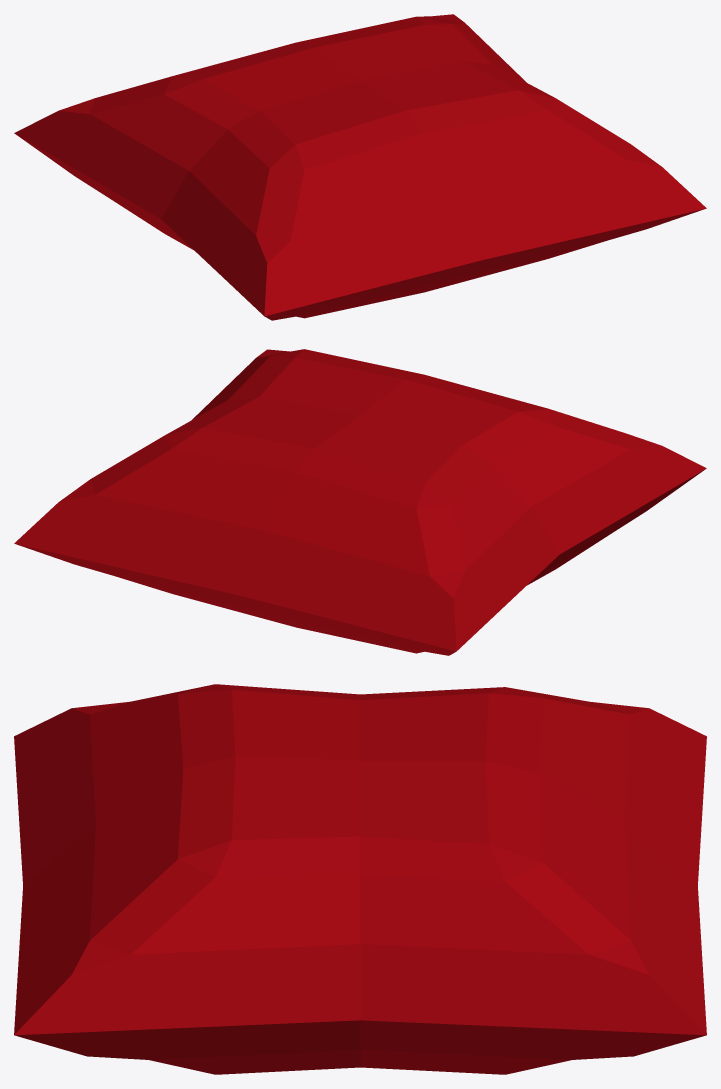
Rendered from Pillow.fbx.
3 renders of one model, top to bottom at view 1: azimuth 30°, elevation 25°; view 2: azimuth 150°, elevation 25°; view 3: azimuth 270°, elevation 25°, orthographic. The views are drawn at different scales.
Parts seen in each view (by area): view 1: Pillow LQ; view 2: Pillow LQ; view 3: Pillow LQ.
Boxes of the visible parts, x1,y1,x2,y2 form: Pillow LQ: (14, 14, 706, 320); Pillow LQ: (14, 349, 706, 655); Pillow LQ: (14, 684, 706, 1074).
Bounding box in the file's own units: 191 × 73.33 × 187.
